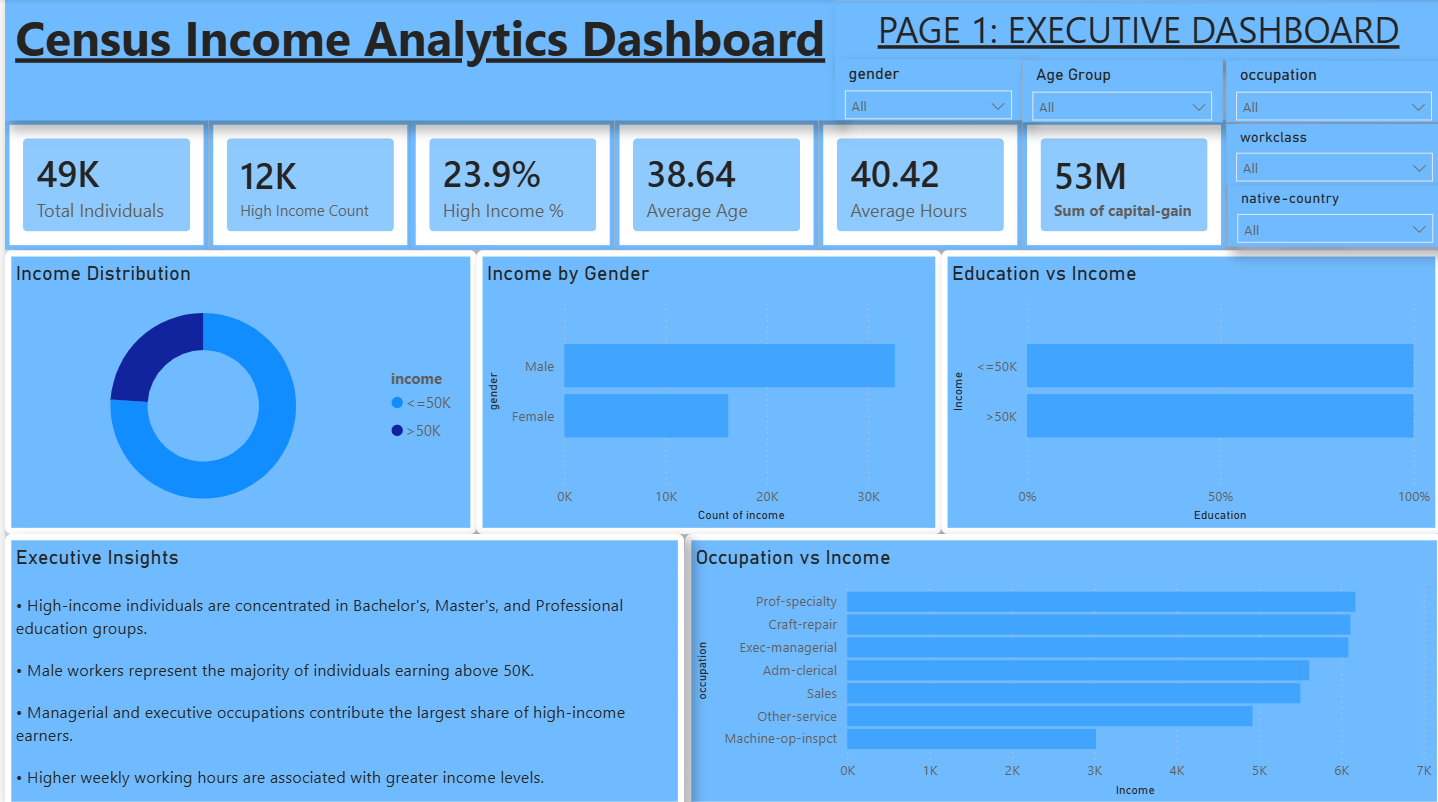

Layout of this report page (visuals, bound fields, positions):
{"tool":"powerbi","page":{"name":"EXECUTIVE DASHBOARD","canvas":[1280,720],"ordinal":0},"visuals":[{"type":"cardVisual","fields":{"Data":["Table.Total Individuals"]},"box":[0,108.4,181.1,115.3],"z":0},{"type":"cardVisual","fields":{"Data":["Table.High Income Count"]},"box":[181.1,108.4,181.1,115.3],"z":1000},{"type":"cardVisual","fields":{"Data":["Table.High Income %"]},"box":[362.3,108.4,181.1,115.3],"z":2000},{"type":"cardVisual","fields":{"Data":["Table.Average Age"]},"box":[543.4,108.4,181.1,115.3],"z":3000},{"type":"cardVisual","fields":{"Data":["Table.Average Hours"]},"box":[724.5,108.4,181.1,115.3],"z":4000},{"type":"cardVisual","fields":{"Data":["Sum(Fact_AdultIncome.capital-gain)"]},"box":[905.7,108.4,181.1,115.3],"z":5000},{"type":"donutChart","title":"Income Distribution","fields":{"Category":["Fact_AdultIncome.income"],"Y":["Table.Total Individuals"]},"box":[0,223.7,419.9,252.5],"z":6000},{"type":"clusteredBarChart","title":"Income by Gender","fields":{"Category":["Fact_AdultIncome.gender"],"Y":["CountNonNull(Fact_AdultIncome.income)"]},"box":[419.9,223.7,414.4,252.5],"z":7000},{"type":"hundredPercentStackedBarChart","title":"Education vs Income","fields":{"Category":["Fact_AdultIncome.income"],"Y":["CountNonNull(Fact_AdultIncome.education)"]},"box":[834.3,223.7,446,252.5],"z":8000},{"type":"barChart","title":"Occupation vs Income","fields":{"Y":["CountNonNull(Fact_AdultIncome.income)"],"Category":["Fact_AdultIncome.occupation"]},"box":[605.1,476.2,675.1,244.3],"z":9000},{"type":"textbox","title":"Executive Insights","box":[0,476.2,605.1,244.3],"z":10000},{"type":"textbox","box":[0,0,739.5,108.1],"z":11000},{"type":"textbox","box":[739.5,1.2,540.7,53.5],"z":12000},{"type":"slicer","fields":{"Values":["Fact_AdultIncome.gender"]},"box":[739.5,53.5,166.3,54.7],"z":13000},{"type":"slicer","fields":{"Values":["Fact_AdultIncome.Age Group"]},"box":[906.2,54.3,178.2,55.5],"z":14000},{"type":"slicer","fields":{"Values":["Fact_AdultIncome.occupation"]},"box":[1087.9,54.3,192.3,55.5],"z":15000},{"type":"slicer","fields":{"Values":["Fact_AdultIncome.workclass"]},"box":[1087.2,111.6,193,54.7],"z":16000},{"type":"slicer","fields":{"Values":["Fact_AdultIncome.native-country"]},"box":[1088.4,166.3,191.9,54.7],"z":17000}]}

Visuals, with their boxes in screenshot pixels (x1, y1, x2, y2), scaled from the page's 1280x720 canvas onto the 1438x802 screenshot:
cardVisual - Table.Total Individuals: bbox(0, 121, 203, 249)
cardVisual - Table.High Income Count: bbox(203, 121, 407, 249)
cardVisual - Table.High Income %: bbox(407, 121, 610, 249)
cardVisual - Table.Average Age: bbox(610, 121, 814, 249)
cardVisual - Table.Average Hours: bbox(814, 121, 1017, 249)
cardVisual - Sum(Fact_AdultIncome.capital-gain): bbox(1017, 121, 1221, 249)
"Income Distribution" donutChart: bbox(0, 249, 472, 530)
"Income by Gender" clusteredBarChart: bbox(472, 249, 937, 530)
"Education vs Income" hundredPercentStackedBarChart: bbox(937, 249, 1437, 530)
"Occupation vs Income" barChart: bbox(680, 530, 1437, 801)
"Executive Insights" textbox: bbox(0, 530, 680, 801)
textbox: bbox(0, 0, 831, 120)
textbox: bbox(831, 1, 1437, 61)
slicer - Fact_AdultIncome.gender: bbox(831, 60, 1018, 121)
slicer - Fact_AdultIncome.Age Group: bbox(1018, 60, 1218, 122)
slicer - Fact_AdultIncome.occupation: bbox(1222, 60, 1437, 122)
slicer - Fact_AdultIncome.workclass: bbox(1221, 124, 1437, 185)
slicer - Fact_AdultIncome.native-country: bbox(1223, 185, 1437, 246)
